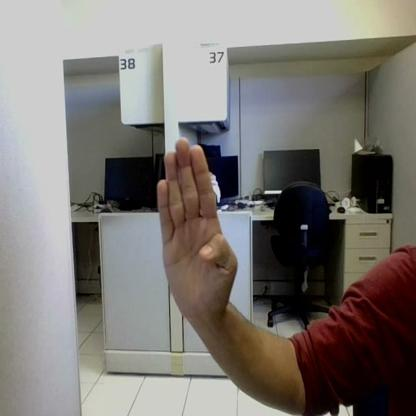B: (158, 138, 236, 317)
